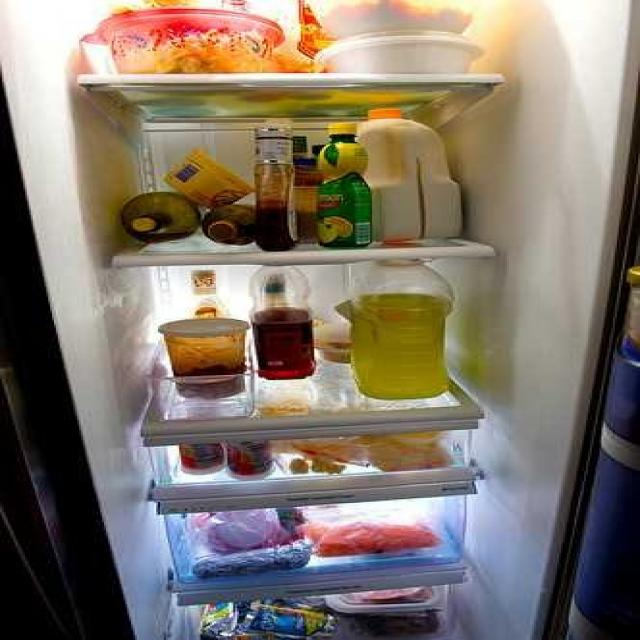refrigerator: (8, 13, 638, 640)
